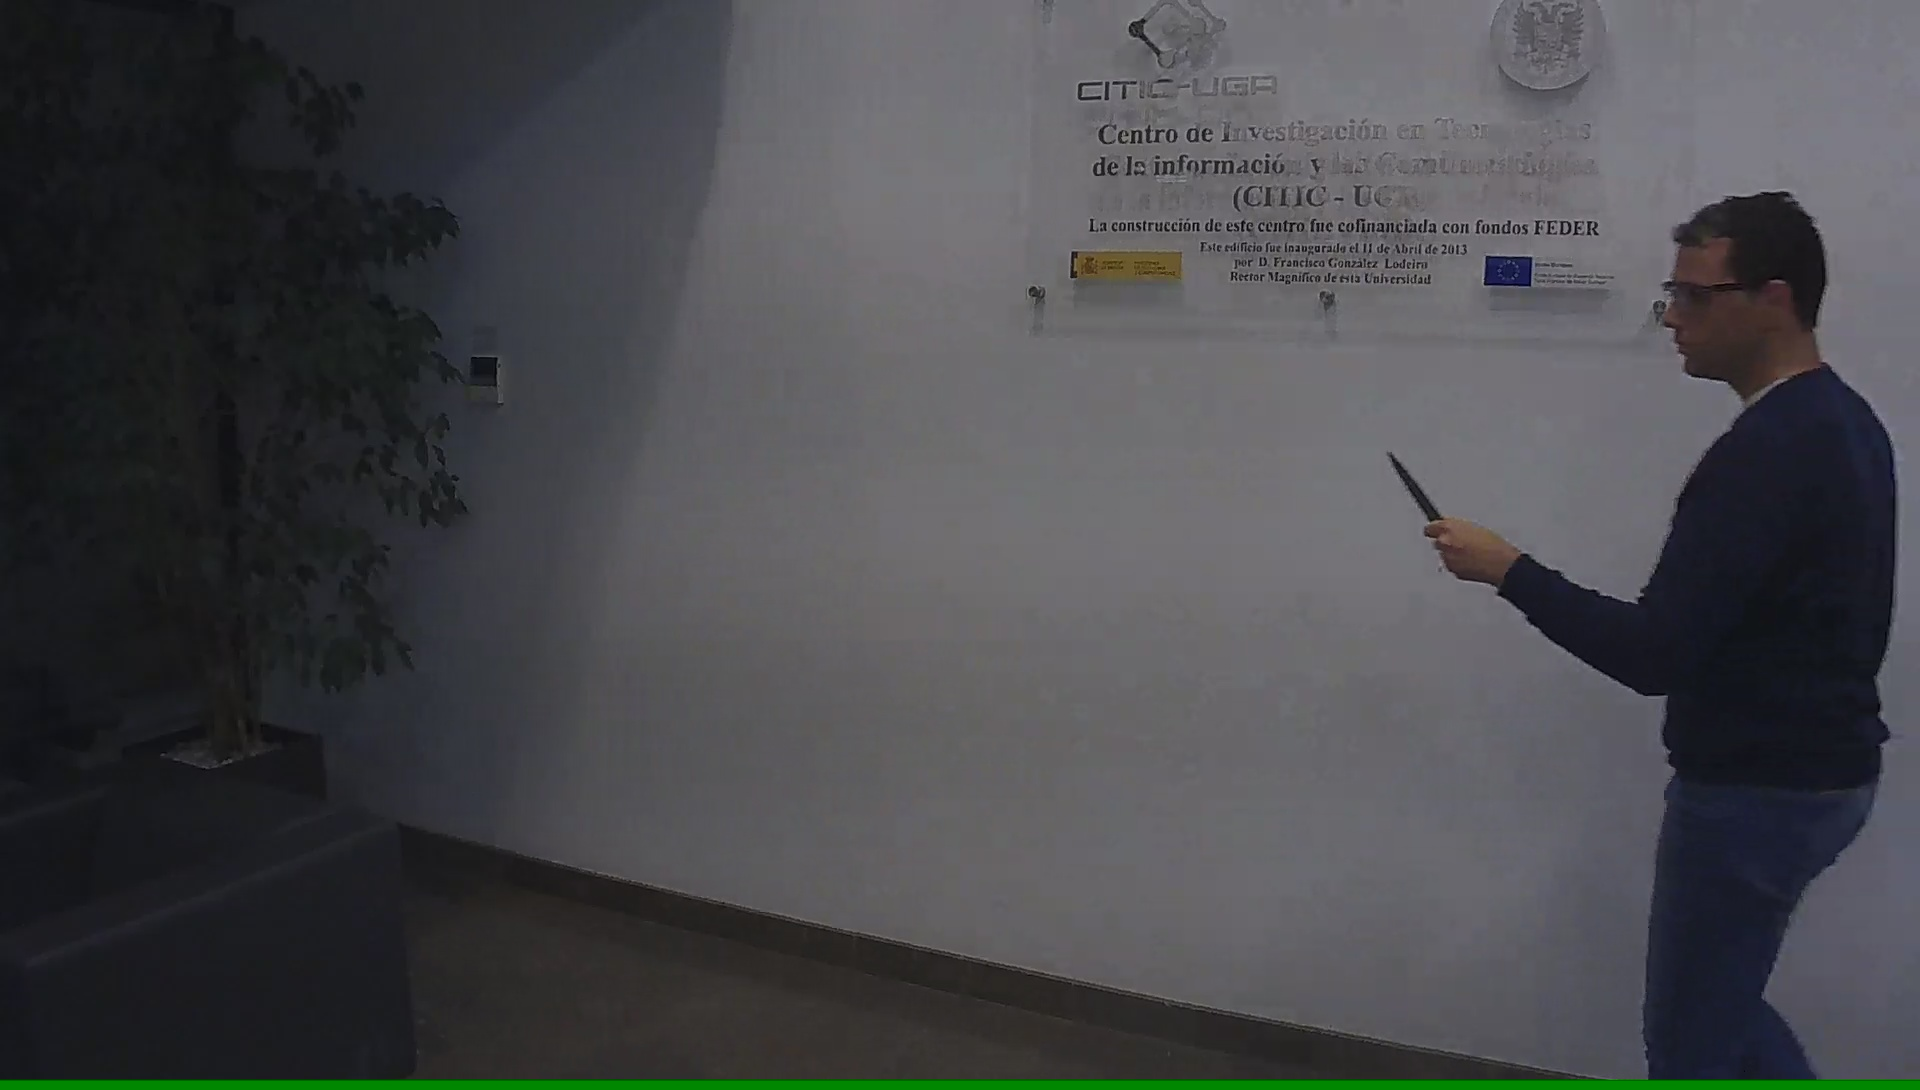knife: (1379, 439, 1486, 587)
